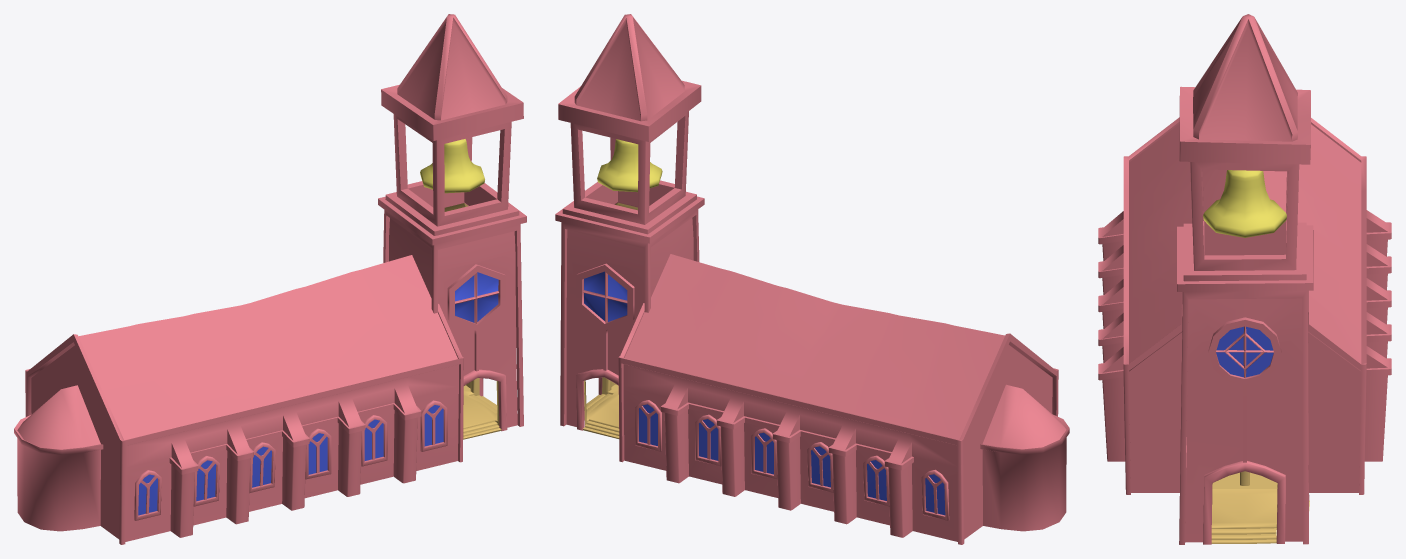
The model's file is _erk.fbx.
3 renders of one model, left to right at view 1: azimuth 30°, elevation 25°; view 2: azimuth 150°, elevation 25°; view 3: azimuth 270°, elevation 25°, orthographic. The views are drawn at different scales.
Parts seen in each view (by area): view 1: Church, ChurchBell; view 2: Church, ChurchBell; view 3: Church, ChurchBell.
Part boxes in pixels (x1,y1,x2,y2): Church: (14, 14, 526, 544); ChurchBell: (420, 139, 484, 193); Church: (555, 14, 1069, 544); ChurchBell: (597, 139, 662, 192); Church: (1098, 14, 1391, 544); ChurchBell: (1203, 170, 1286, 237).
Bounding box in the file's own units: 4554 × 3654 × 1937.
